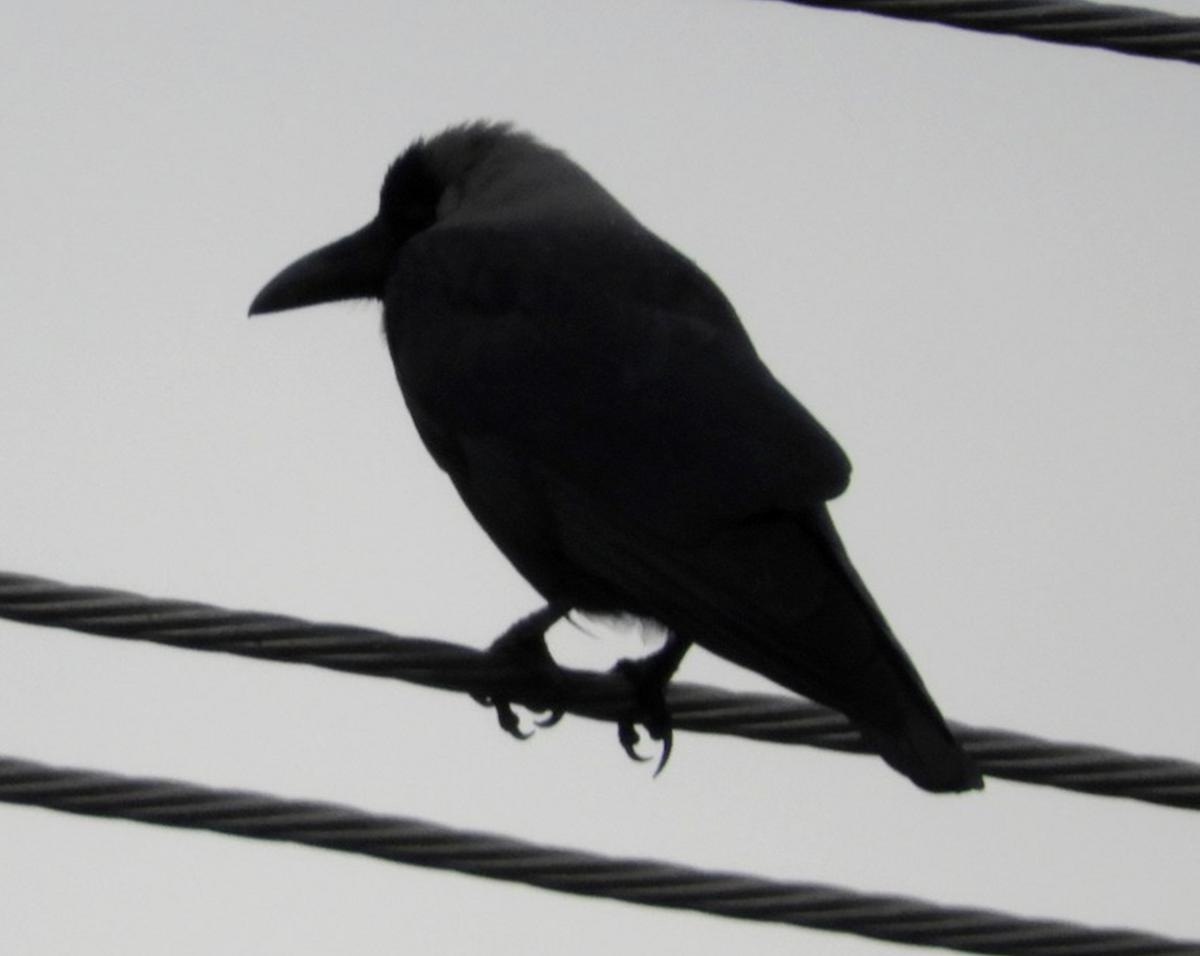crow: (251, 101, 1028, 851)
